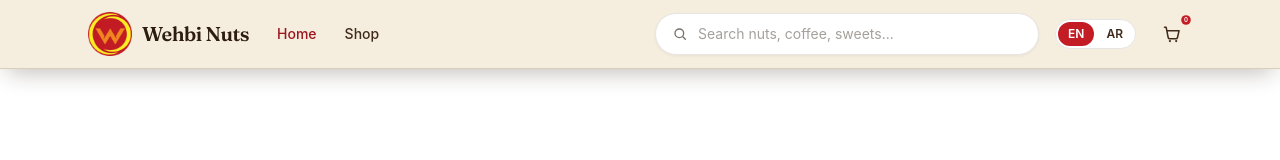
Test case: StorefrontHeader › language switcher › switching to AR translates the header text (English to Arabic)
Click the button "AR": [1115, 34] box [1096,22,1133,46]
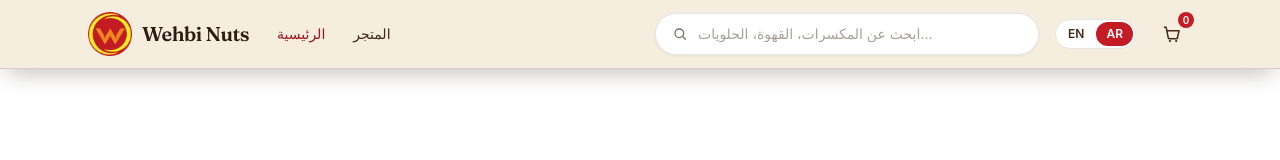
Expected: the link "الرئيسية" is shown, [277,25,325,42]
Expected: the link "المتجر" is shown, [353,25,391,42]
Expected: the link "Home" is gone
